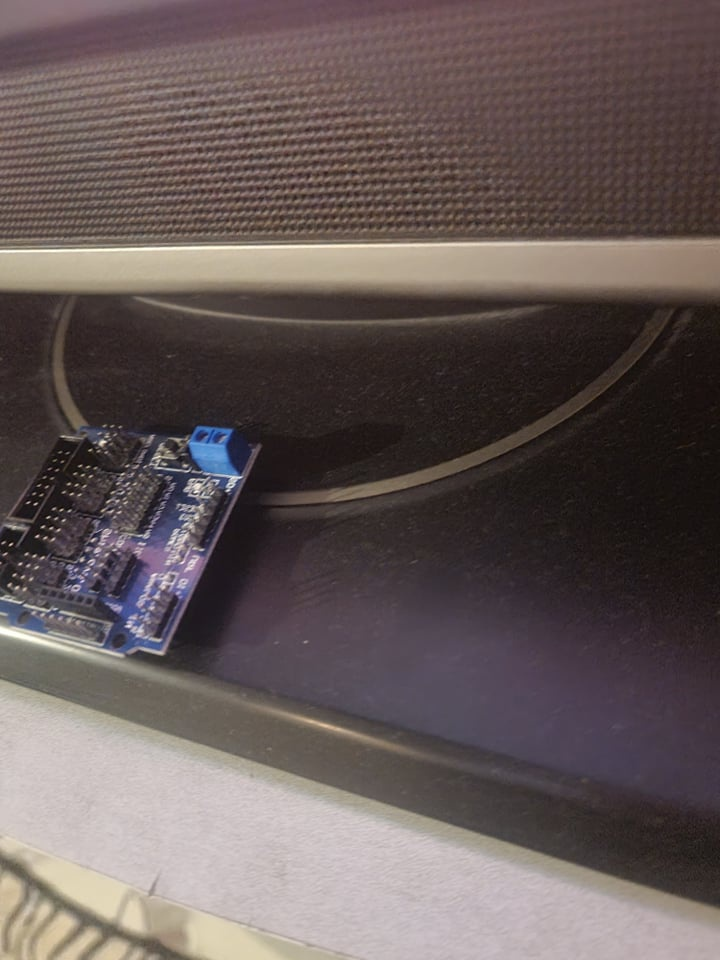5V EXPANSION: (0, 426, 262, 660)
